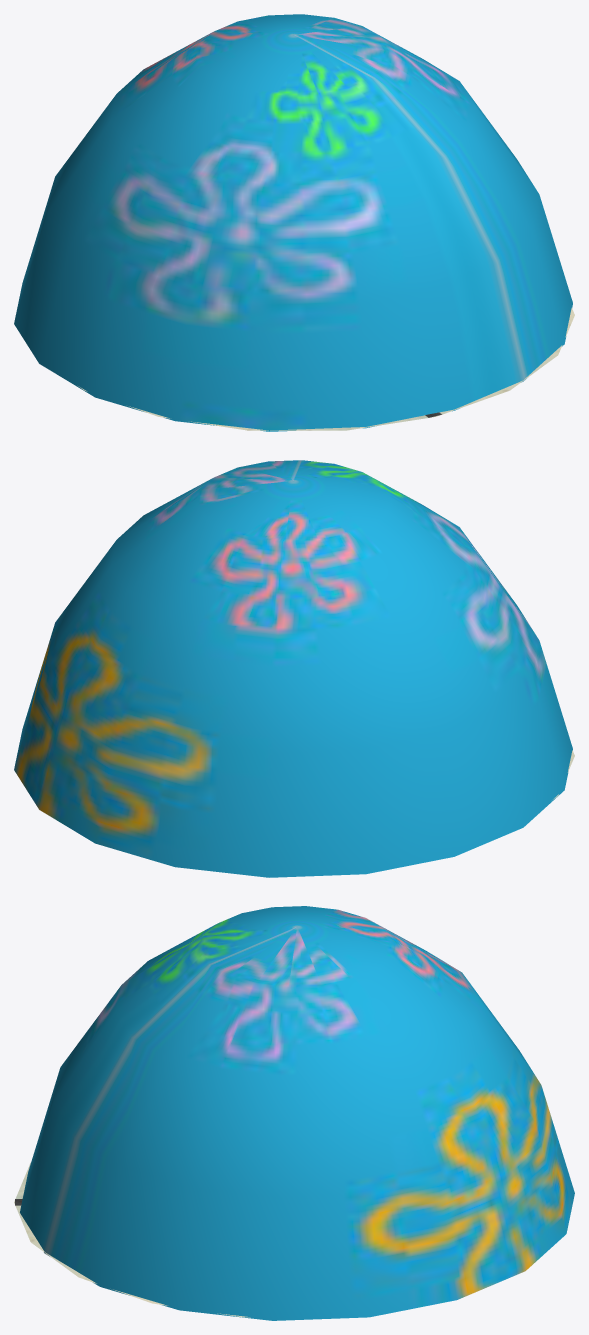
The model's file is The Krusty Krab.FBX.
3 renders of one model, top to bottom at view 1: azimuth 30°, elevation 25°; view 2: azimuth 150°, elevation 25°; view 3: azimuth 270°, elevation 25°, orthographic.
Visible parts, largest first — view 1: Skybox, Sand; view 2: Skybox; view 3: Skybox, Sand.
Part boxes in pixels (left/top/right/bottom): Skybox: left=14, top=14, right=572, bottom=431; Sand: left=78, top=308, right=574, bottom=430; Skybox: left=14, top=460, right=572, bottom=877; Skybox: left=20, top=906, right=574, bottom=1320; Sand: left=14, top=1162, right=250, bottom=1317.
Bounding box in the file's own units: 7617 × 4191 × 7691.
